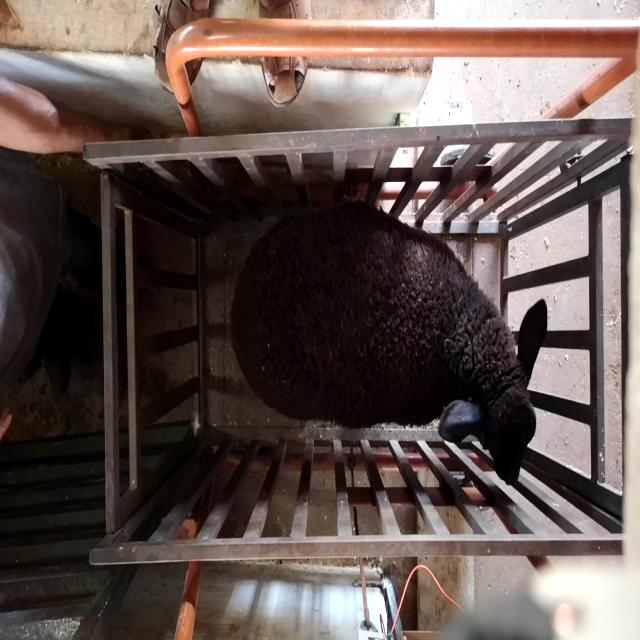sheep: (230, 198, 548, 486)
